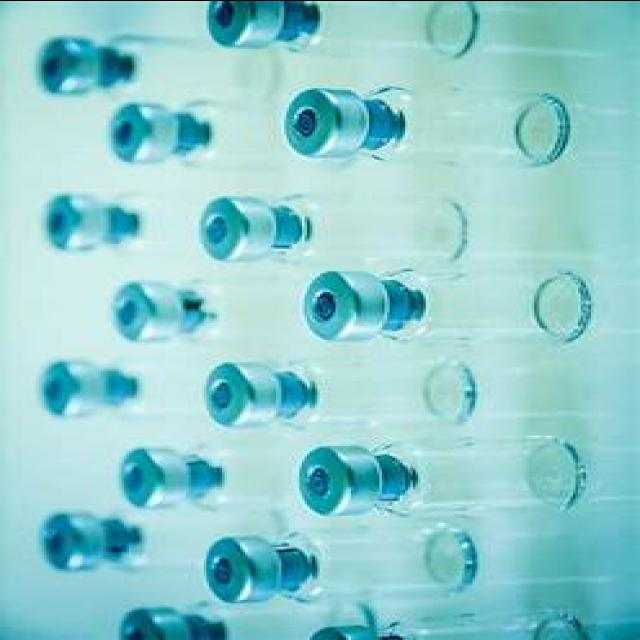vial: (196, 194, 270, 259), (111, 444, 178, 514), (287, 77, 341, 161), (294, 273, 354, 341), (205, 528, 263, 598), (196, 361, 258, 424), (105, 108, 174, 164), (298, 444, 354, 512), (31, 514, 95, 572), (104, 280, 162, 342), (38, 17, 86, 91), (32, 188, 84, 251), (34, 365, 84, 415), (210, 0, 252, 47), (119, 607, 177, 640), (306, 617, 382, 640)
